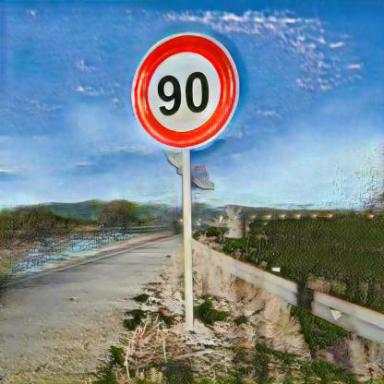Speed_limit_90: (137, 36, 236, 146)
